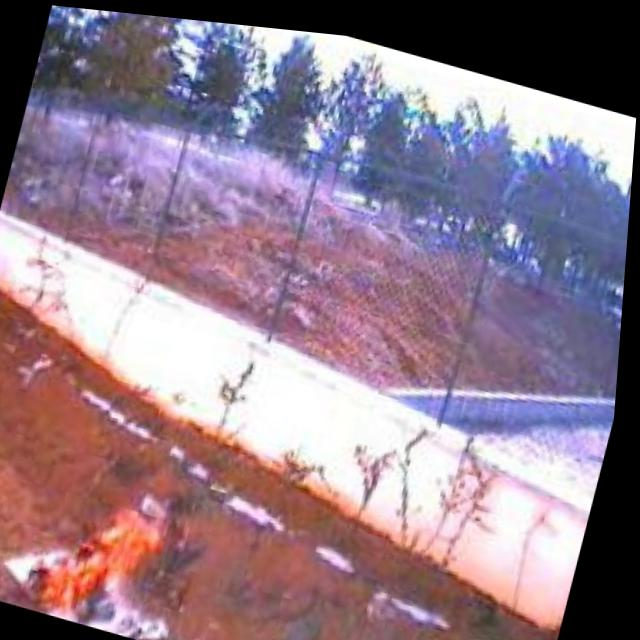Fire: (9, 458, 192, 636)
